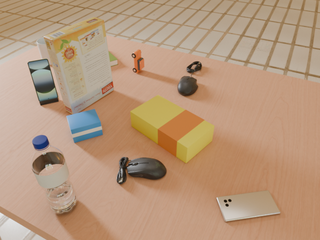bottle: (31, 135, 77, 214)
box: (44, 17, 114, 114), (130, 95, 214, 163), (67, 109, 103, 143)
cup: (37, 37, 52, 65)
mouse: (117, 157, 166, 184), (178, 76, 198, 95)
phone: (217, 190, 280, 222), (28, 59, 58, 101)
toy_car: (132, 50, 144, 73)
